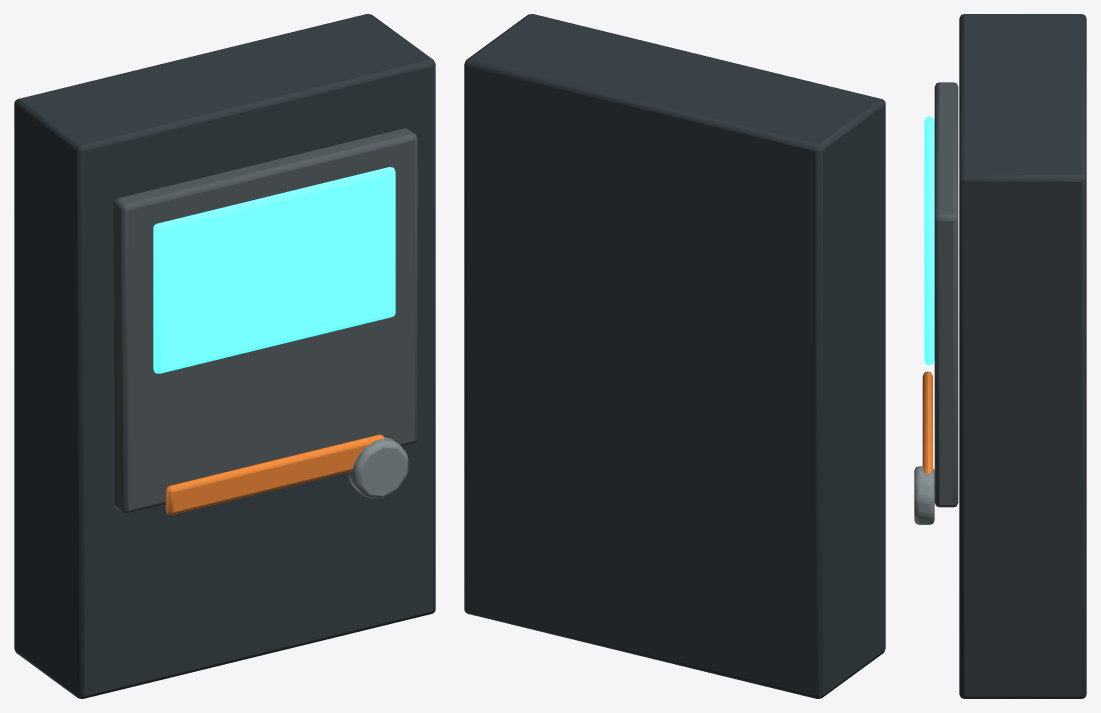
File: nord01-access_terminal-lod0.glb
The picture shows the model from 3 angles, left to right: view 1: azimuth 30°, elevation 25°; view 2: azimuth 150°, elevation 25°; view 3: azimuth 270°, elevation 25°; orthographic projection. The views are drawn at different scales.
Visible parts, largest first — view 1: static; view 2: static; view 3: static.
Boxes of the visible parts, x1,y1,x2,y2 form: static: [14, 14, 435, 698]; static: [464, 14, 885, 698]; static: [914, 14, 1086, 698].
Bounding box in the file's own units: 0.23 × 0.34 × 0.1015.
